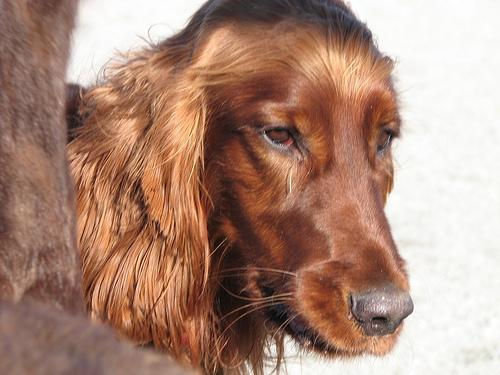Irish_setter: (62, 0, 415, 374)
